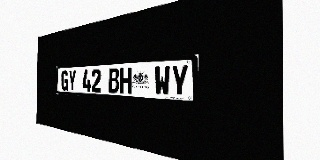2: (91, 69, 101, 92)
4: (82, 69, 91, 92)
B: (108, 68, 119, 93)
G: (61, 70, 68, 91)
H: (120, 67, 132, 94)
W: (154, 65, 170, 96)
Y: (171, 64, 189, 97), (68, 70, 76, 91)
